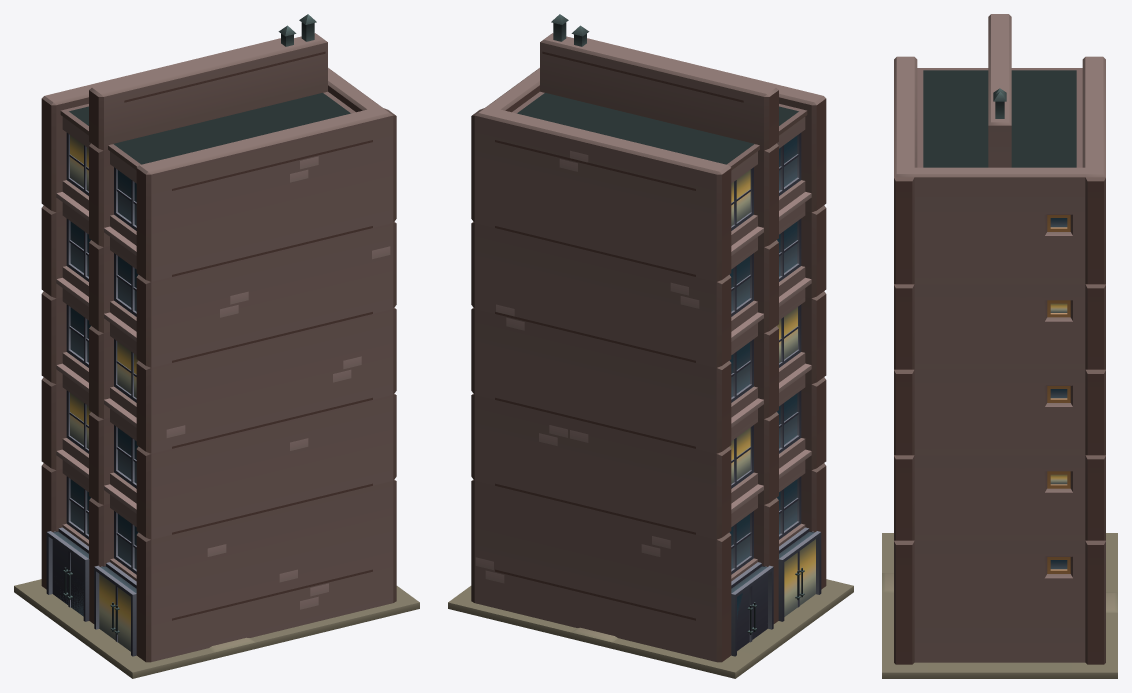
Rendered from Building_12B.fbx.
The picture shows the model from 3 angles, left to right: view 1: azimuth 30°, elevation 25°; view 2: azimuth 150°, elevation 25°; view 3: azimuth 270°, elevation 25°; orthographic projection.
Visible parts, largest first — view 1: Building_12B, Window_Lights_12B; view 2: Building_12B, Window_Lights_12B; view 3: Building_12B, Window_Lights_12B.
Part boxes in pixels (x1,y1,x2,y2): Building_12B: (14, 14, 419, 678); Window_Lights_12B: (70, 135, 138, 651); Building_12B: (448, 14, 853, 678); Window_Lights_12B: (729, 170, 815, 616); Building_12B: (882, 14, 1117, 678); Window_Lights_12B: (1050, 303, 1067, 484).
Bounding box in the file's own units: 1400 × 2627 × 1000.
